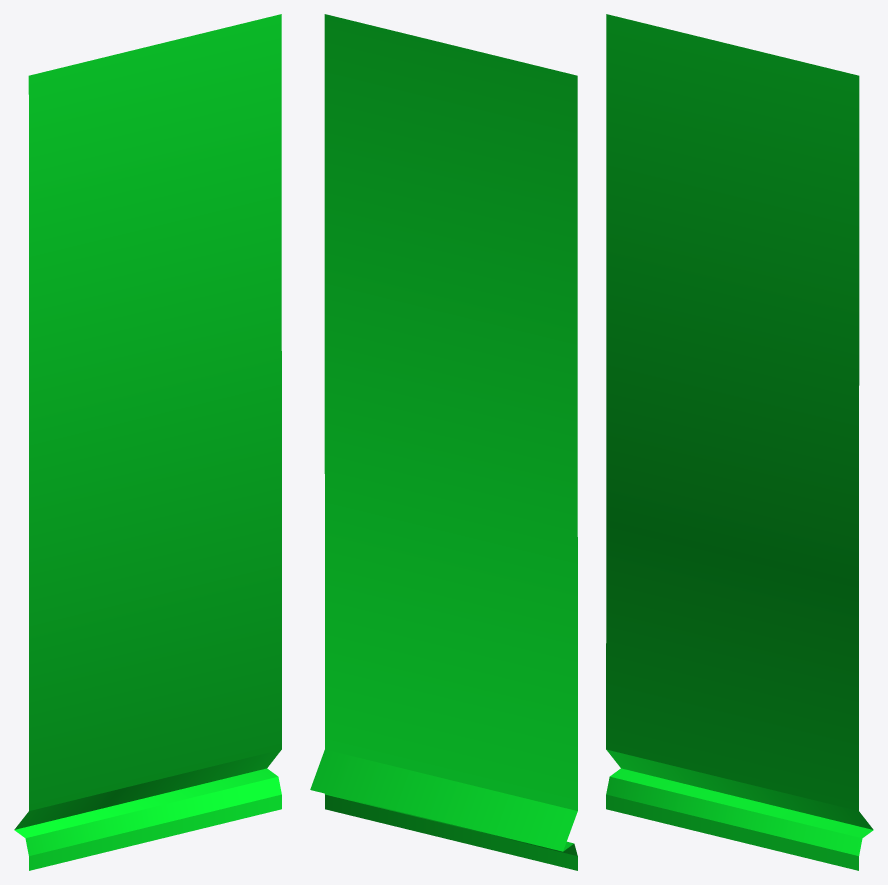
Rendered from 3x9m_straightwall.FBX.
The picture shows the model from 3 angles, left to right: view 1: azimuth 30°, elevation 25°; view 2: azimuth 150°, elevation 25°; view 3: azimuth 330°, elevation 25°; orthographic projection.
Visible parts, largest first — view 1: 3x9m_Straight; view 2: 3x9m_Straight; view 3: 3x9m_Straight.
Boxes of the visible parts, x1,y1,x2,y2 form: 3x9m_Straight: (14, 14, 281, 870); 3x9m_Straight: (310, 14, 577, 870); 3x9m_Straight: (606, 14, 873, 870).
Size of the model in its own units: 300 by 900 by 30.42.
